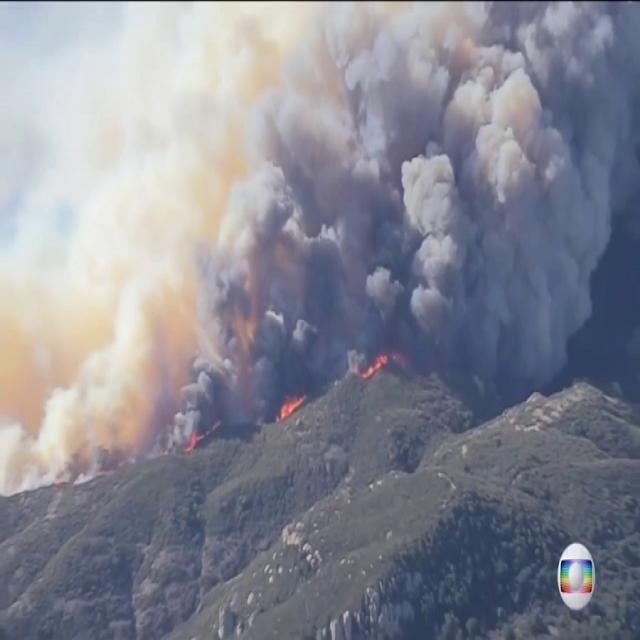Fire: (356, 352, 409, 390), (274, 394, 310, 424), (186, 433, 203, 455)
Smoke: (184, 16, 626, 342), (0, 363, 162, 465), (169, 349, 245, 426)
